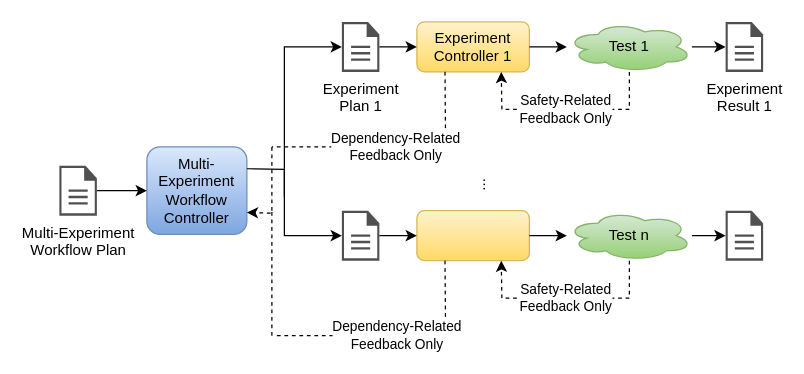
The diagram is 804 pixels wide and 374 high, and some of its shapes have lost their labels. The centre of each missing label's shape, as x and y in pixels:
Experiment Controller n: the point at 472,235
Experiment Plan n: the point at 360,235
Experiment Result n: the point at 743,235
